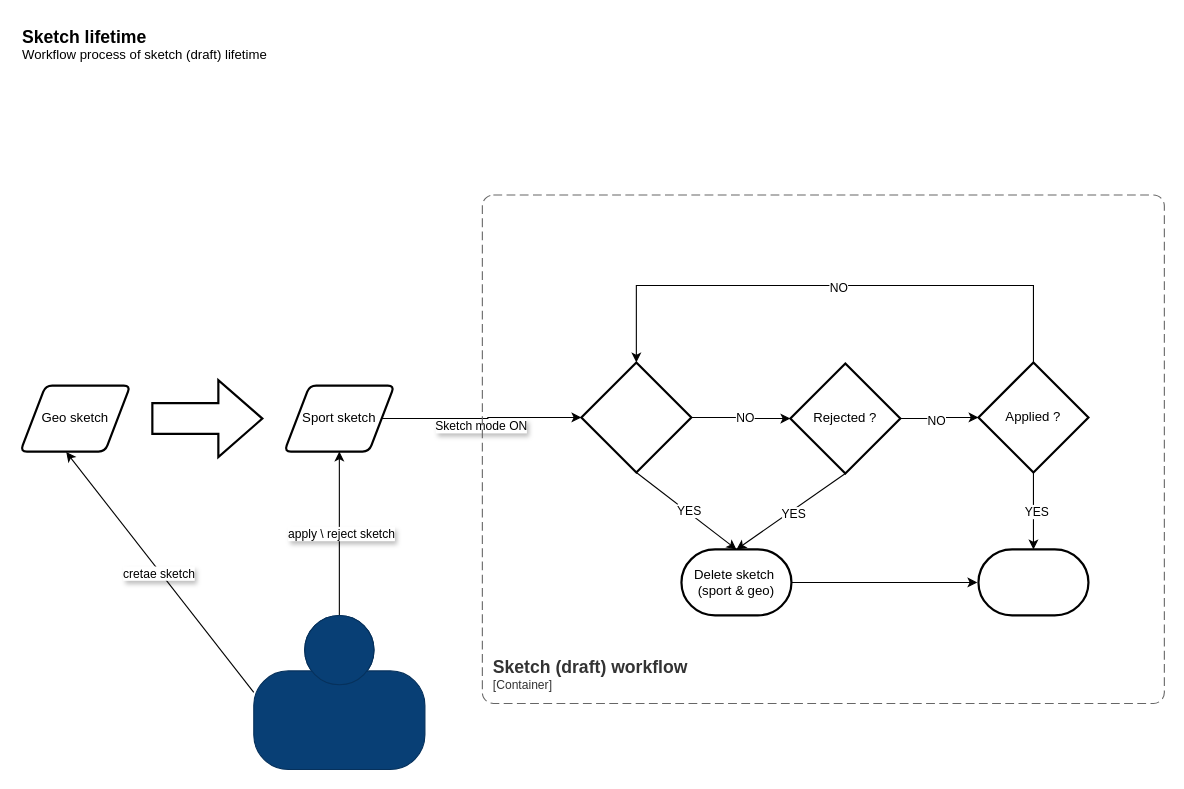
Some shapes in this 1184 by 789 pixel diagram are drawn without their labels. Here are the shapes that lost their labels. From the top down, the centre of each, then its label:
At point 636,417: "Timed out?".
At point 1033,582: "Exclude from workflow".
At point 339,691: "Person [Person] Sketch creator \ moderator".
